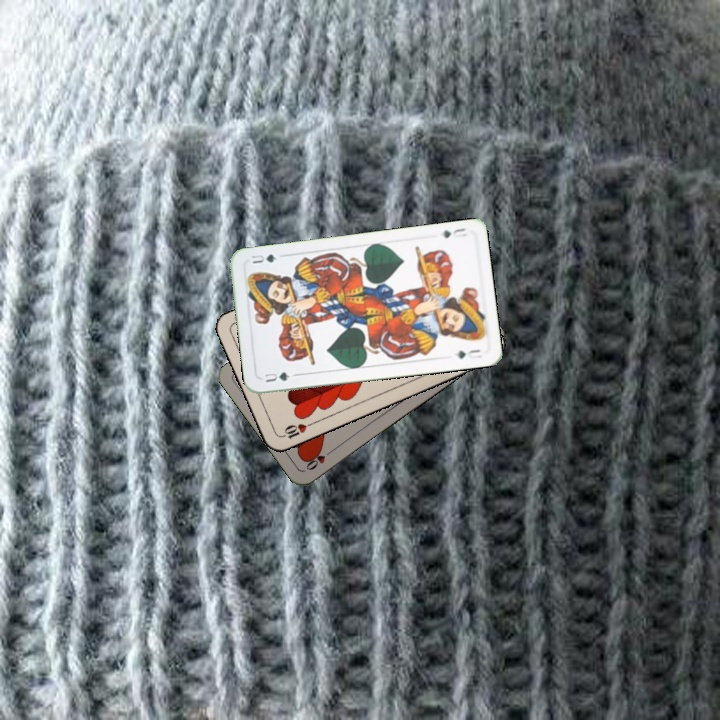GU: (260, 368, 299, 385), (438, 224, 469, 240)
H10: (278, 418, 316, 441)
HO: (302, 445, 337, 473)
